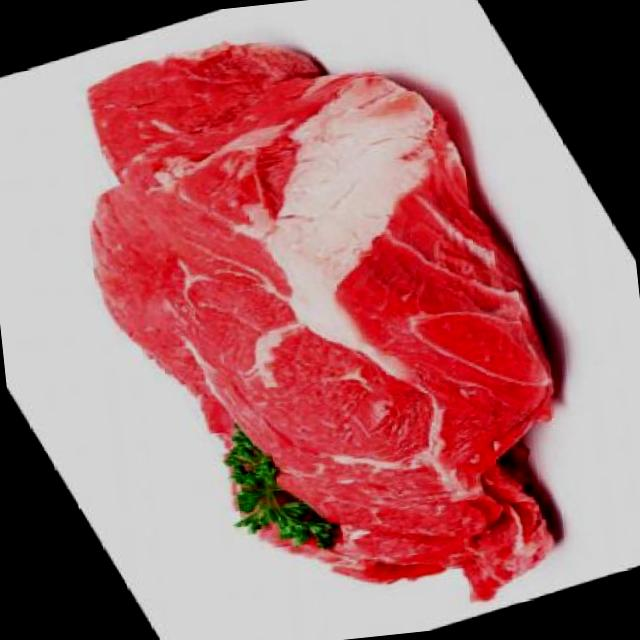beef: (69, 11, 584, 640)
